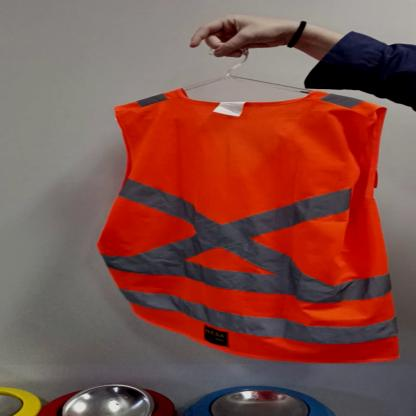colete: (92, 87, 406, 364)
